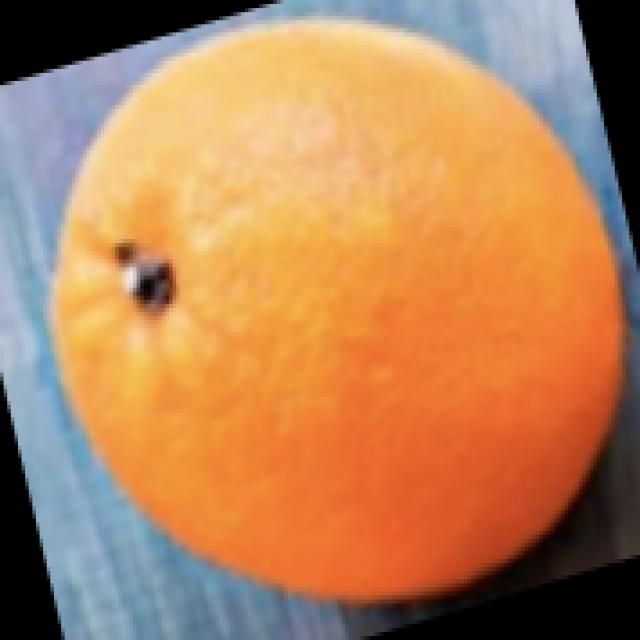fresh: (43, 21, 634, 624)
